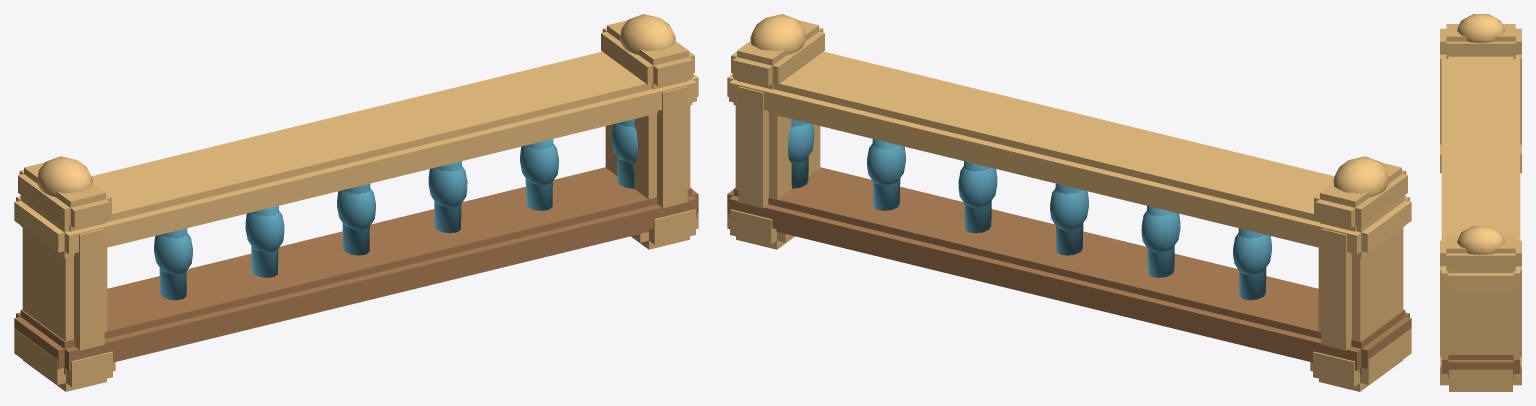
The model's file is summit-rail-C9qO8ERP.glb.
3 renders of one model, left to right at view 1: azimuth 30°, elevation 25°; view 2: azimuth 150°, elevation 25°; view 3: azimuth 270°, elevation 25°, orthographic. The views are drawn at different scales.
Parts seen in each view (by area): view 1: summit-rail; view 2: summit-rail; view 3: summit-rail.
Boxes of the visible parts, left/top/right/bottom form: summit-rail: left=14, top=14, right=698, bottom=391; summit-rail: left=727, top=14, right=1411, bottom=391; summit-rail: left=1440, top=14, right=1521, bottom=391.
Size of the model in its own units: 2.7 by 0.85 by 0.4.
